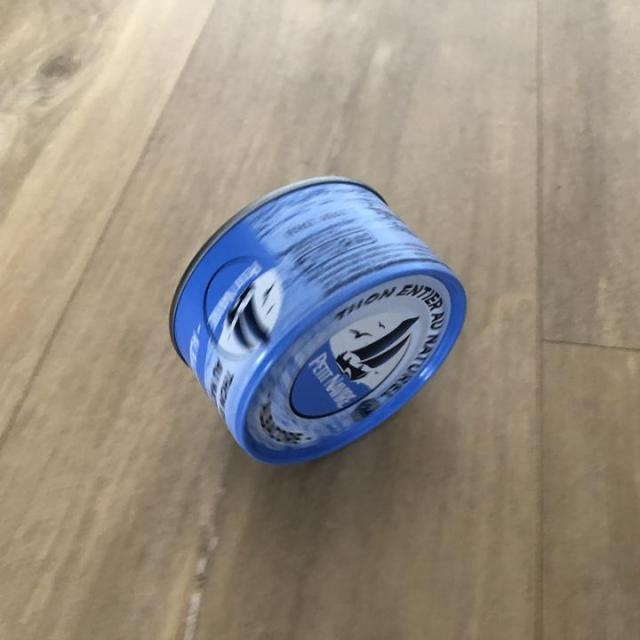recyclable: (163, 162, 466, 482)
